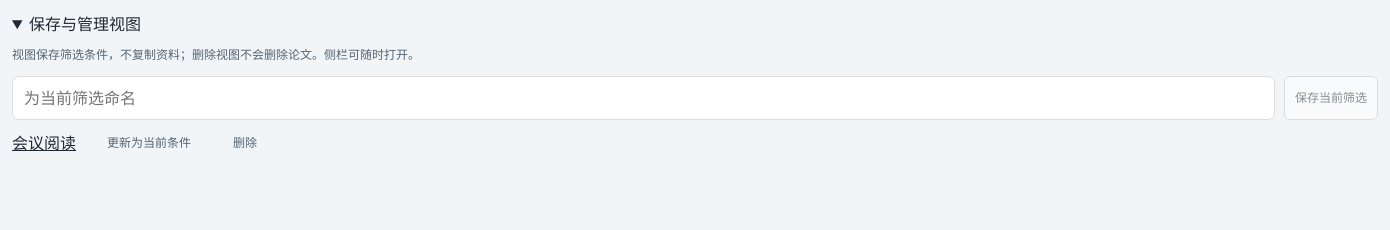
Test: SavedSearchControls › updates saved views with their row version and surfaces a conflict
Click the button "更新为当前条件" at {"x": 149, "y": 143}, box [96,126,202,160]
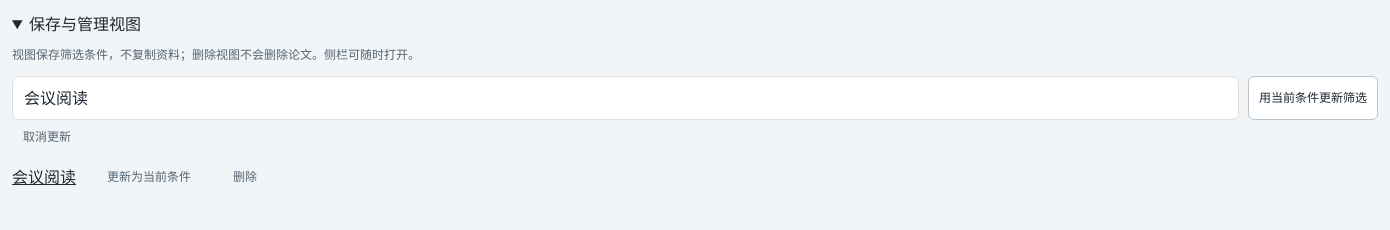
Click the button "用当前条件更新筛选" at {"x": 1313, "y": 98}, box [1248,76,1378,120]
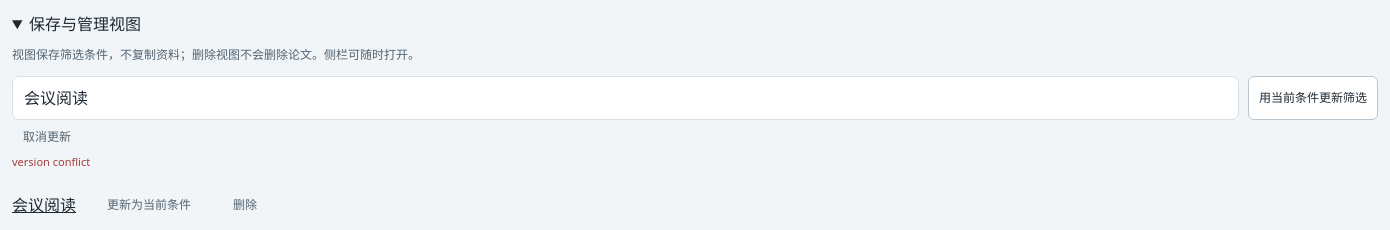
Now the message reads "version conflict", box [12,154,90,169]
